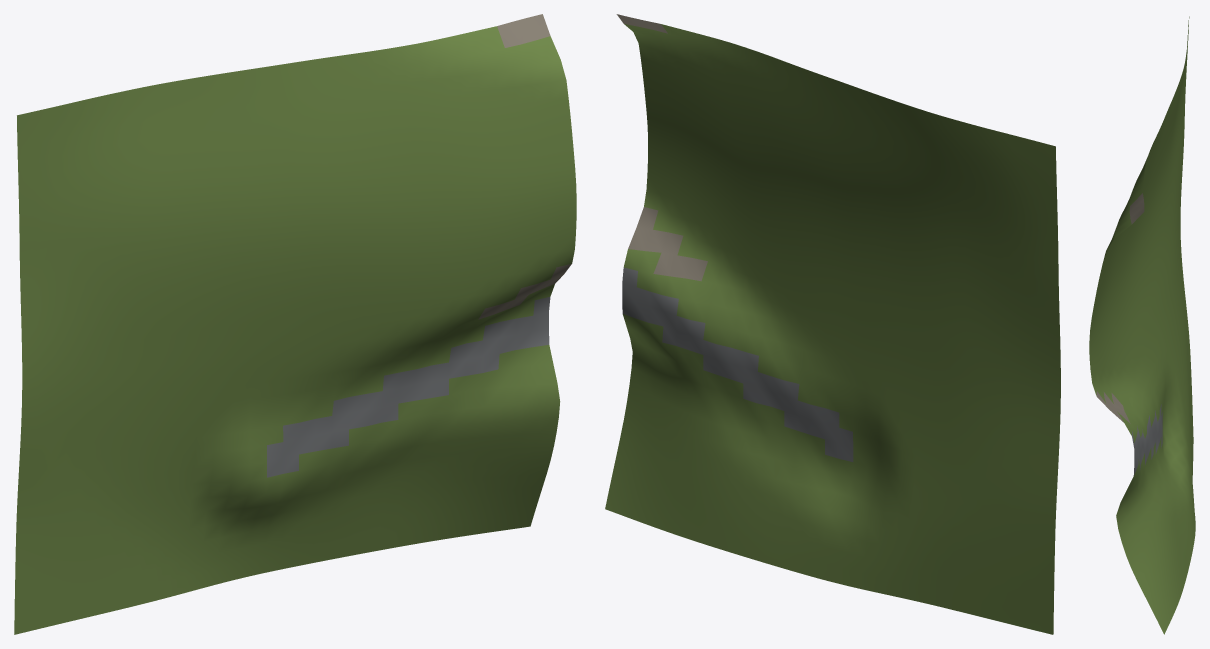
Rendered from island_terrain_23_08.obj.
The picture shows the model from 3 angles, left to right: view 1: azimuth 30°, elevation 25°; view 2: azimuth 150°, elevation 25°; view 3: azimuth 270°, elevation 25°; orthographic projection. The views are drawn at different scales.
Visible parts, largest first — view 1: island_terrain_23_08; view 2: island_terrain_23_08; view 3: island_terrain_23_08.
Boxes of the visible parts, x1,y1,x2,y2 form: island_terrain_23_08: [14, 14, 576, 634]; island_terrain_23_08: [605, 14, 1060, 634]; island_terrain_23_08: [1089, 16, 1195, 634].
Bounding box in the file's own units: 256 × 256 × 58.25.
